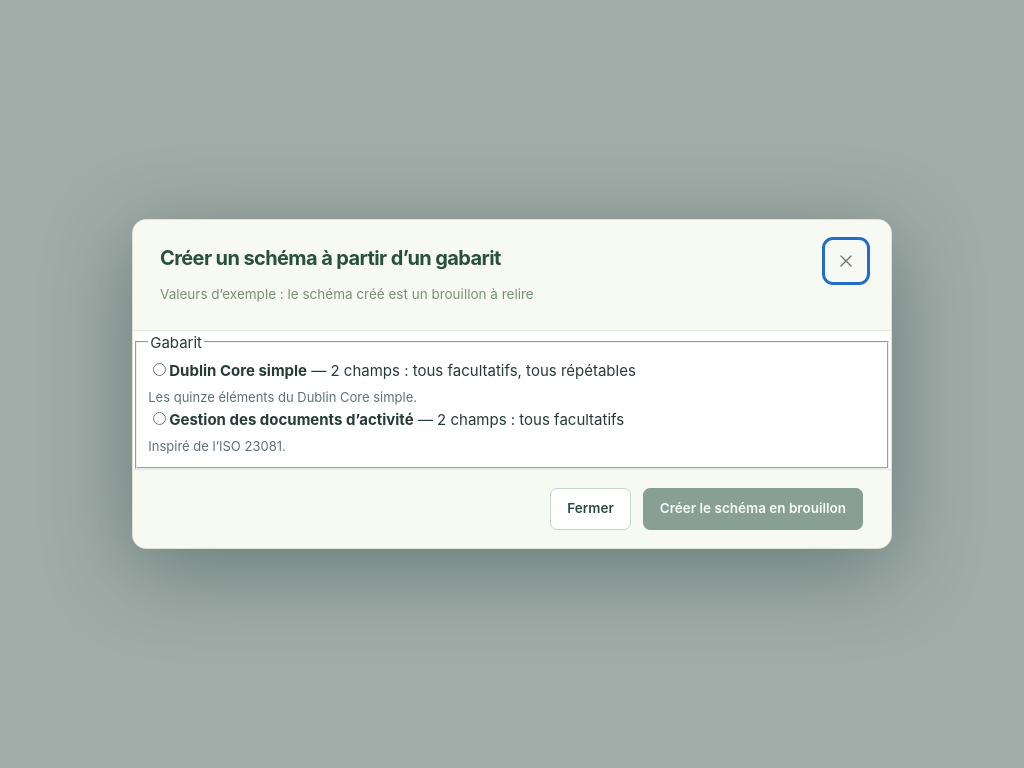
Test: les gabarits se listent avec leur résumé et leurs champs groupés, et rien ne se crée sans choix
Check: the text "Dublin Core simple" is shown, box [169,361,307,380]
Check: the text "2 champs : tous facultatifs, tous répétables" is shown, box [330,361,636,380]
Click the radio button labelled "Gestion des documents d’activité" at (160, 419), box [153,412,166,425]
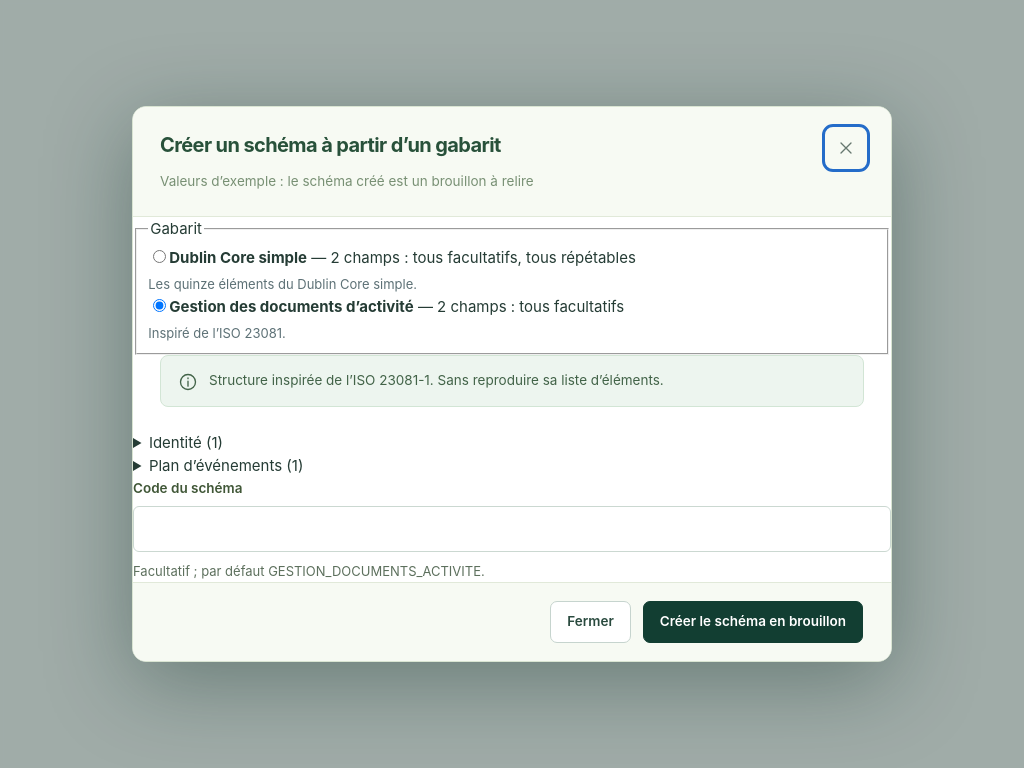
Check: the text "Sans reproduire sa liste d’éléments" is shown, box [438,372,664,388]
Check: the heading "Identité (1)" is shown, box [149,433,223,452]
Check: the heading "Plan d’événements (1)" is shown, box [149,456,303,475]
